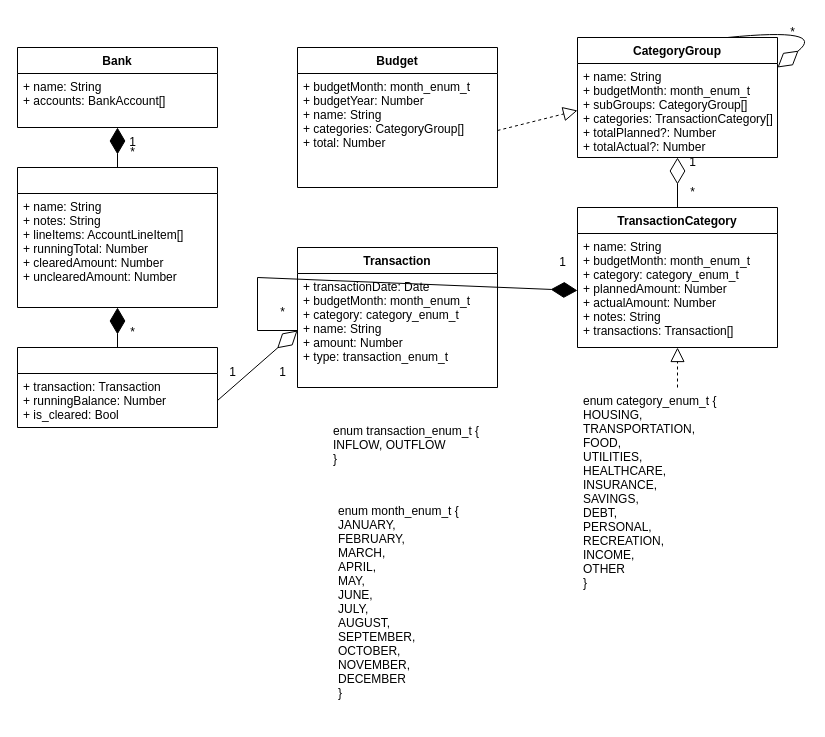
This 825x737 diagram has some shape labels left out. The shapes that lost their labels are listed below. From the top down, each one's box as (x1, y1, x2, y2) in pixels, then its label:
(16, 166, 218, 308): BankAccount
(16, 346, 218, 428): AccountLineItem
